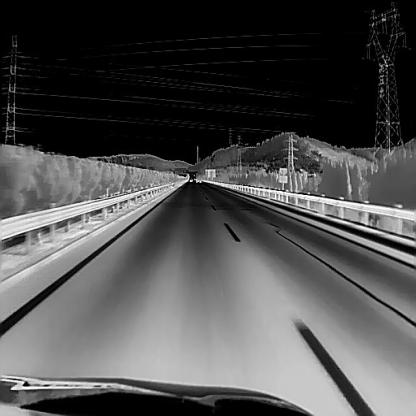truck: (196, 171, 200, 182)
